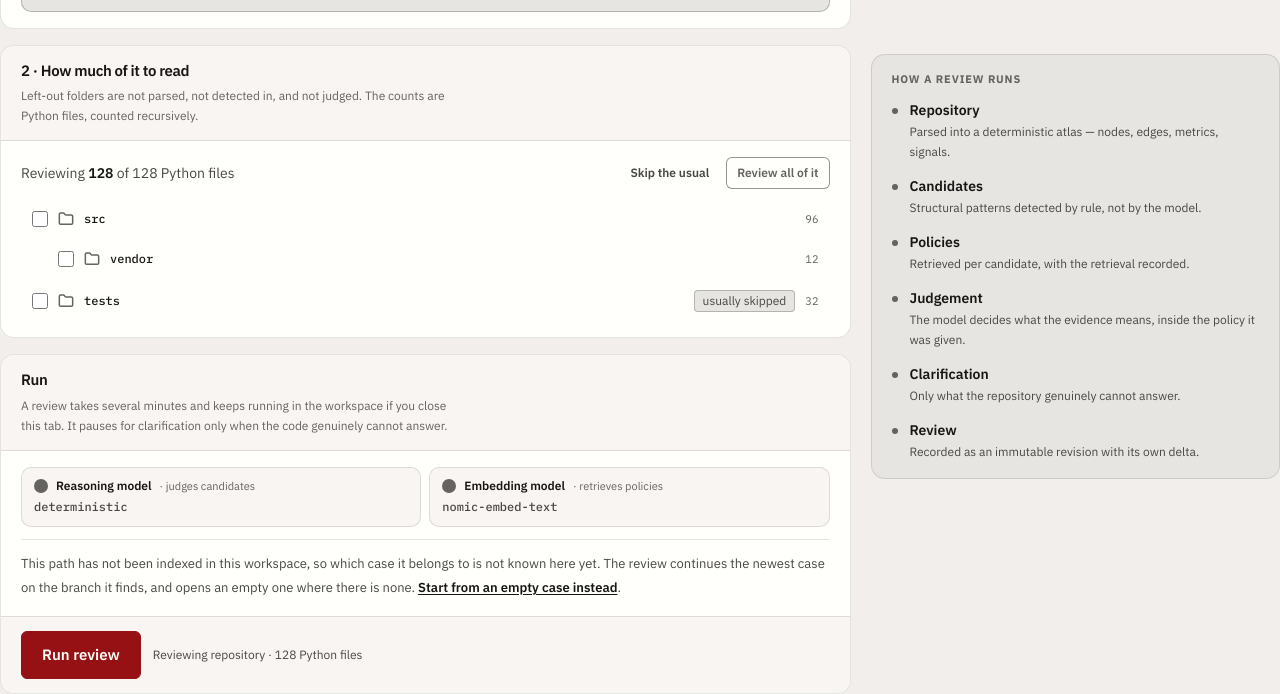
Test: starting a review › reports a failed run in place rather than navigating away
(page scrolled)
What coordinates should you click on to do the following:
click the button "Run review"
I would click on:
 (81, 655)
Its box is [21,631,141,679].
(page scrolled)
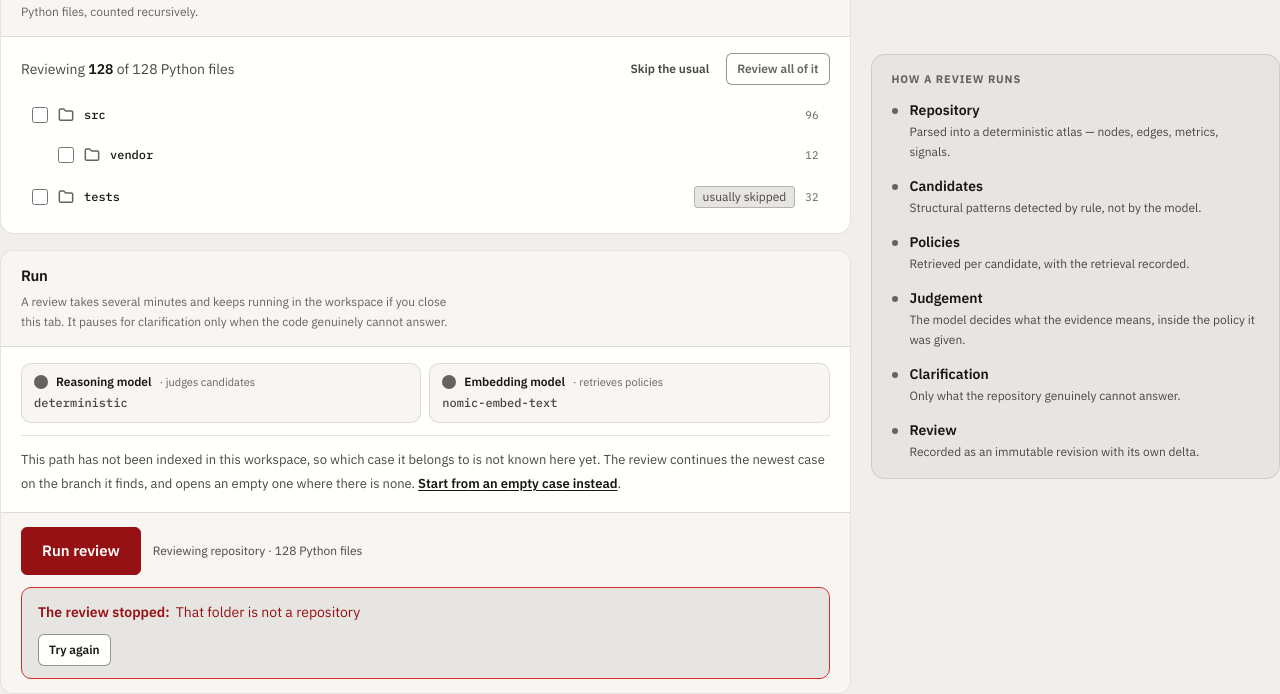
Check: the text "The review stopped:That folder is not a repository" is shown, box [38,603,360,621]
